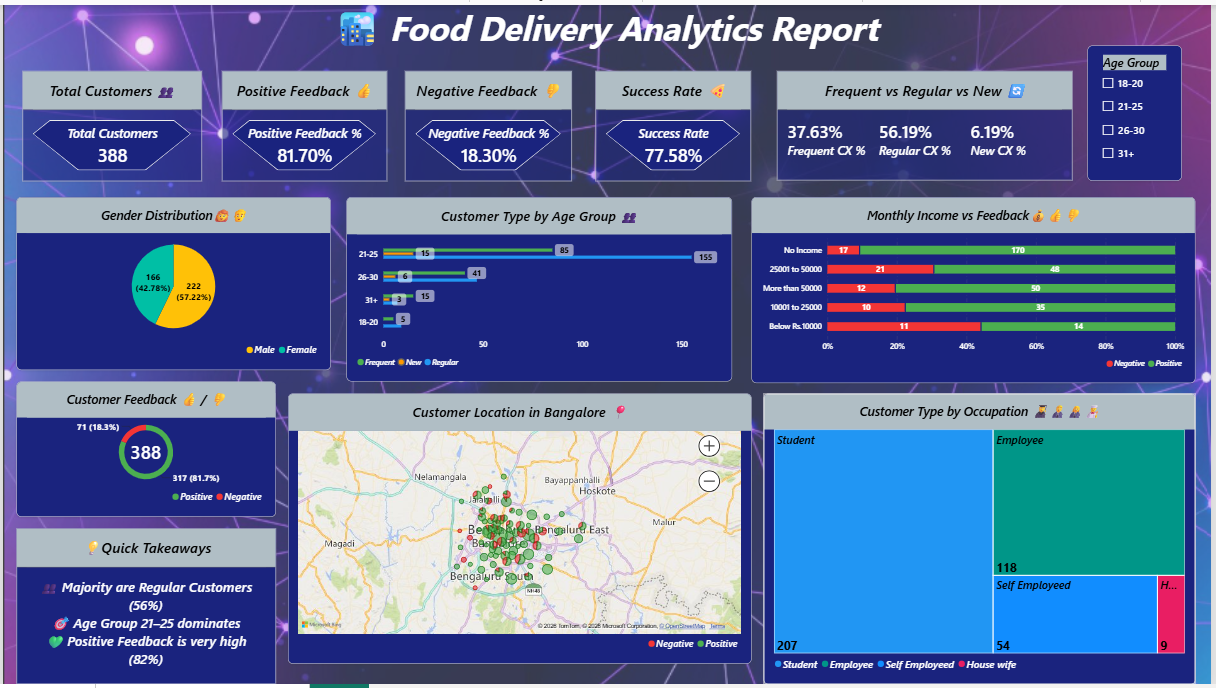

This screenshot's page, from the dashboard's own definition file:
{"tool":"powerbi","page":{"name":"Dashboard","canvas":[1920,1080],"ordinal":0},"visuals":[{"type":"pieChart","title":"Gender Distribution👩🦰👨","fields":{"Category":["online food delivery dataset.Gender"],"Y":["CountNonNull(online food delivery dataset.Gender)"]},"box":[22.5,305,500,275],"z":0},{"type":"clusteredBarChart","title":"Customer Type by Age Group 👥","fields":{"Category":["Data.Age Group"],"Series":["Data.Customer Type"],"Y":["CountNonNull(Data.Customer Type)"]},"box":[547.5,305,613.2,293.5],"z":1000},{"type":"textbox","box":[0,0,1918.3,78.7],"z":2000},{"type":"hundredPercentStackedBarChart","title":"Monthly Income vs Feedback💰👍👎","fields":{"Category":["Data.Monthly Income"],"Series":["Data.Feedback"],"Y":["CountNonNull(Data.Feedback)"]},"box":[1190.6,305.4,706.2,295.9],"z":3000},{"type":"treemap","title":"Customer Type by Occupation 🧑🎓🧑💼👩💼👨🍳","fields":{"Group":["Data.Occupation"],"Values":["CountNonNull(Data.Customer Type)"]},"box":[1210,617.5,687.5,462.5],"z":4000},{"type":"donutChart","title":"Customer Feedback 👍 / 👎","fields":{"Category":["Data.Feedback"],"Y":["CountNonNull(Data.Feedback)"]},"box":[22.5,600,412.5,215],"z":5000},{"type":"cardVisual","title":"Success Rate 🍕","fields":{"Data":["Data.Success Rate"]},"box":[942.5,105,247.5,175],"z":6000},{"type":"map","title":"Customer Location in Bangalore 📍","fields":{"Series":["Data.Feedback"],"Size":["Sum(Data.Family size)"],"X":["Data.longitude"],"Y":["Data.latitude"]},"box":[452.5,617.5,737.5,430],"z":7000},{"type":"cardVisual","title":"Total Customers 👥","fields":{"Data":["Data.Total Customers"]},"box":[30,105,285,175],"z":8000},{"type":"cardVisual","title":"Positive Feedback 👍","fields":{"Data":["Data.Positive Feedback %"]},"box":[347.5,105,262.5,175],"z":9000},{"type":"cardVisual","title":"Negative Feedback 👎","fields":{"Data":["Data.Negative Feedback %"]},"box":[640,105,265,175],"z":10000},{"type":"multiRowCard","title":"Frequent vs Regular vs New 🔄","fields":{"Values":["Data.Frequent Customers %","Data.Regular Customers %","Data.New Customers %"]},"box":[1230,105,470,174.2],"z":11000},{"type":"slicer","fields":{"Values":["Data.Age Group"]},"box":[1725,65,150,215],"z":12000},{"type":"textbox","title":"💡Quick Takeaways","box":[22.5,832.5,412.5,247.5],"z":13000}]}

Visuals, with their boxes in screenshot pixels (x1, y1, x2, y2), scaled from the page's 1920x1080 canvas onto the 1216x688 screenshot:
"Gender Distribution👩🦰👨" pieChart: bbox(14, 194, 331, 369)
"Customer Type by Age Group 👥" clusteredBarChart: bbox(347, 194, 735, 381)
textbox: bbox(0, 0, 1215, 50)
"Monthly Income vs Feedback💰👍👎" hundredPercentStackedBarChart: bbox(754, 195, 1201, 383)
"Customer Type by Occupation 🧑🎓🧑💼👩💼👨🍳" treemap: bbox(766, 393, 1202, 687)
"Customer Feedback 👍 / 👎" donutChart: bbox(14, 382, 276, 519)
"Success Rate 🍕" cardVisual: bbox(597, 67, 754, 178)
"Customer Location in Bangalore 📍" map: bbox(287, 393, 754, 667)
"Total Customers 👥" cardVisual: bbox(19, 67, 200, 178)
"Positive Feedback 👍" cardVisual: bbox(220, 67, 386, 178)
"Negative Feedback 👎" cardVisual: bbox(405, 67, 573, 178)
"Frequent vs Regular vs New 🔄" multiRowCard: bbox(779, 67, 1077, 178)
slicer - Data.Age Group: bbox(1092, 41, 1188, 178)
"💡Quick Takeaways" textbox: bbox(14, 530, 276, 687)
